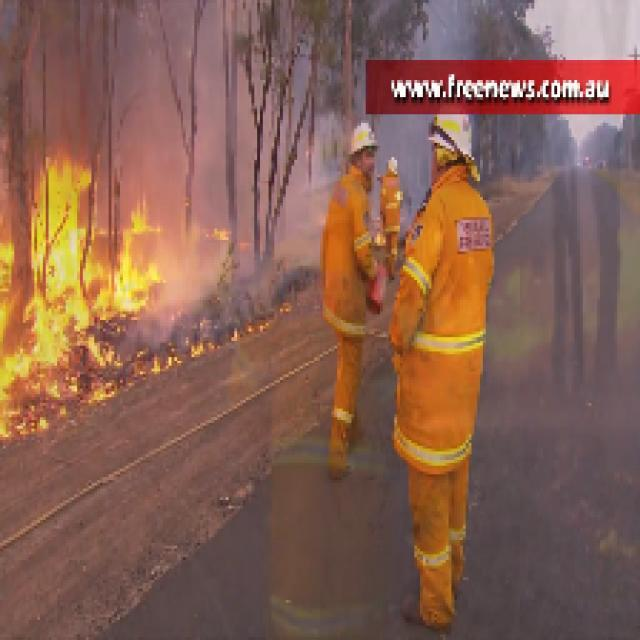Fire: (3, 174, 143, 380)
Smoke: (180, 68, 252, 286), (426, 8, 474, 54)
